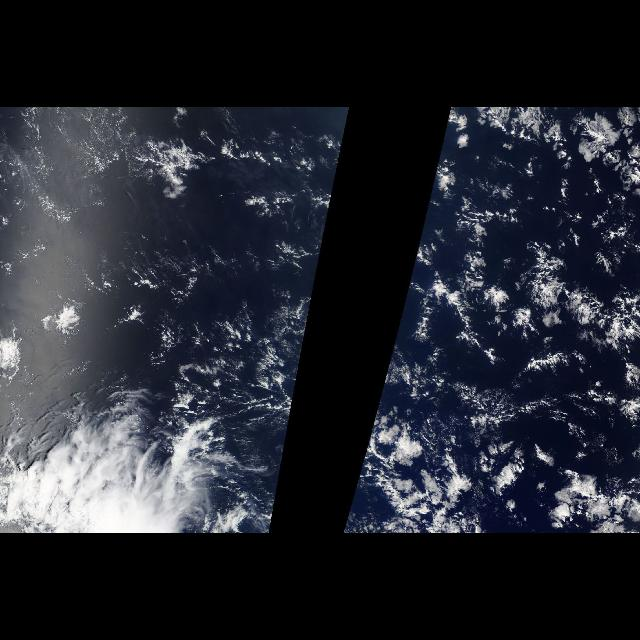Flower: (430, 240, 636, 450)
Gravel: (364, 123, 628, 460), (292, 124, 348, 406)
